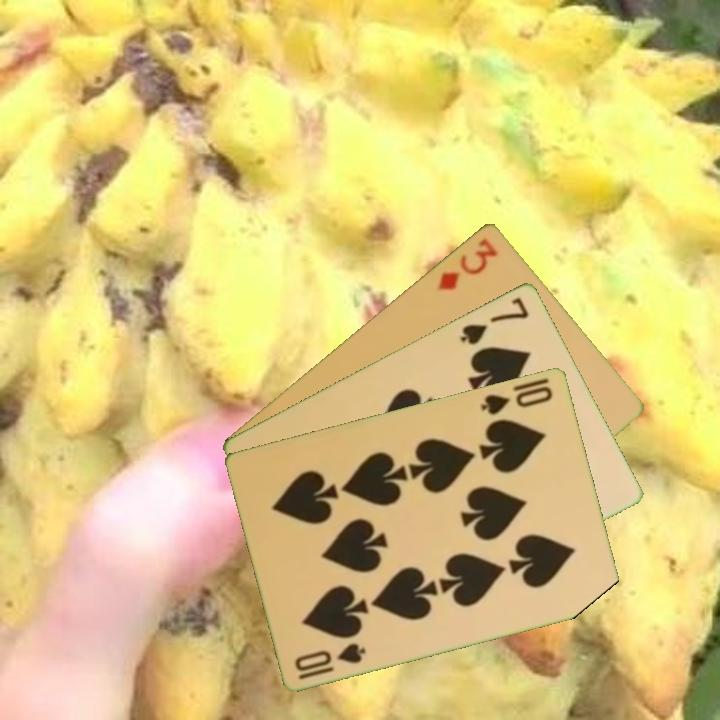10s: (291, 639, 369, 682), (477, 382, 556, 417)
3d: (434, 234, 501, 293)
7s: (456, 293, 532, 347)
